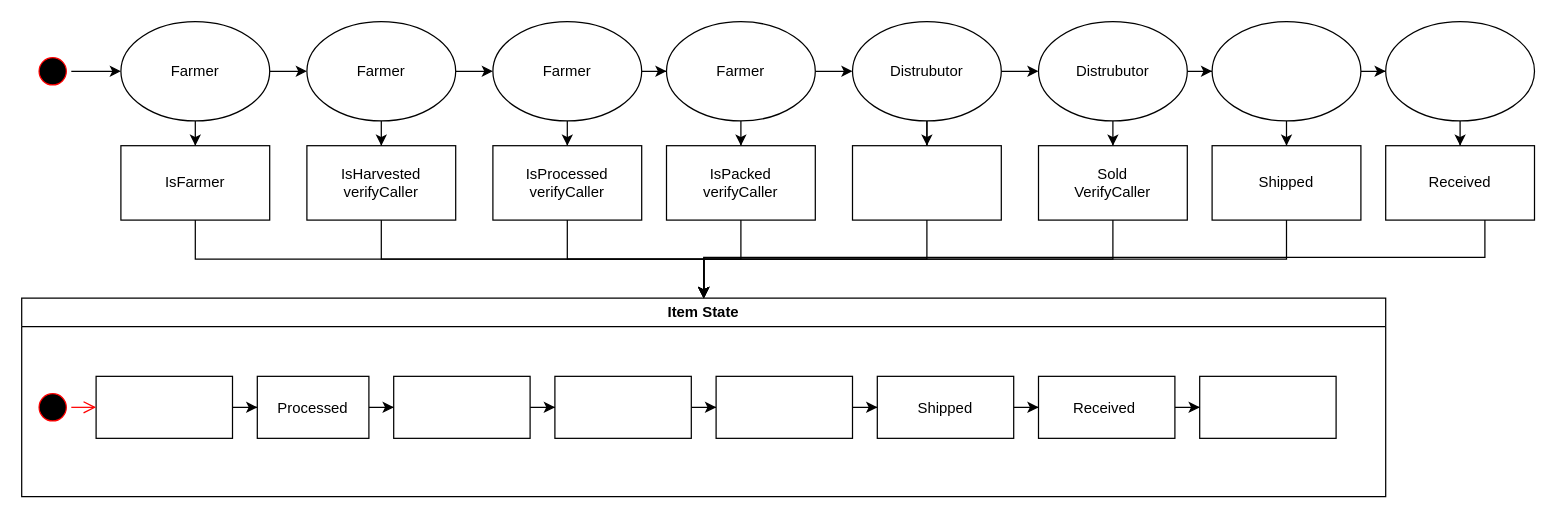
The diagram is 1556 pixels wide and 518 high, and some of its shapes have lost their labels. The centre of each missing label's shape, as x and y in pixels:
"Consumer" belongs at [1459,70].
"ForSale" belongs at [622,406].
"ForSale PaidEnough CheckValue" belongs at [926,182].
"Harvested" belongs at [163,406].
"Packed" belongs at [461,406].
"Purchased" belongs at [1267,406].
"Retailer" belongs at [1286,70].
"Sold" belongs at [783,406].
